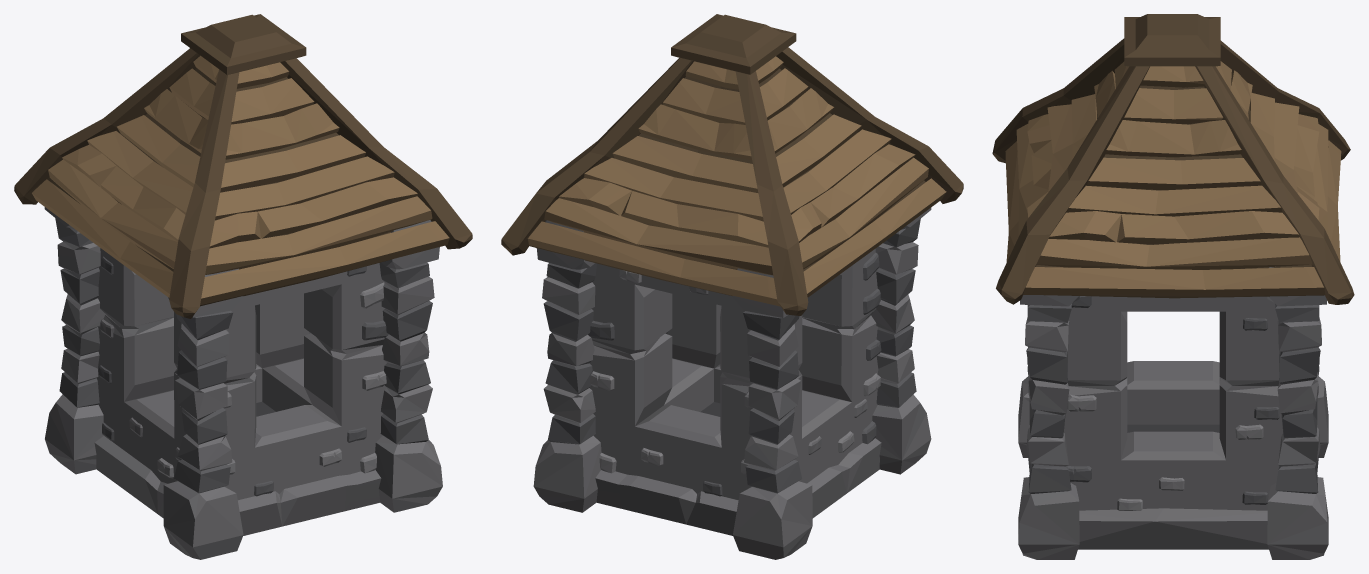
The model's file is SM_Bld_Church_Tower_02.gltf.
3 views of the same model, side by side, from view 1: azimuth 30°, elevation 25°; view 2: azimuth 150°, elevation 25°; view 3: azimuth 270°, elevation 25° (orthographic). The views are drawn at different scales.
Parts seen in each view (by area): view 1: SM_Bld_Church_Tower_02; view 2: SM_Bld_Church_Tower_02; view 3: SM_Bld_Church_Tower_02.
Part boxes in pixels (<box>): SM_Bld_Church_Tower_02: <box>14,14,472,559</box>; SM_Bld_Church_Tower_02: <box>501,14,963,559</box>; SM_Bld_Church_Tower_02: <box>992,14,1354,559</box>.
Size of the model in its own units: 3.59 by 5.12 by 3.56.
1 material, 1 textured.
